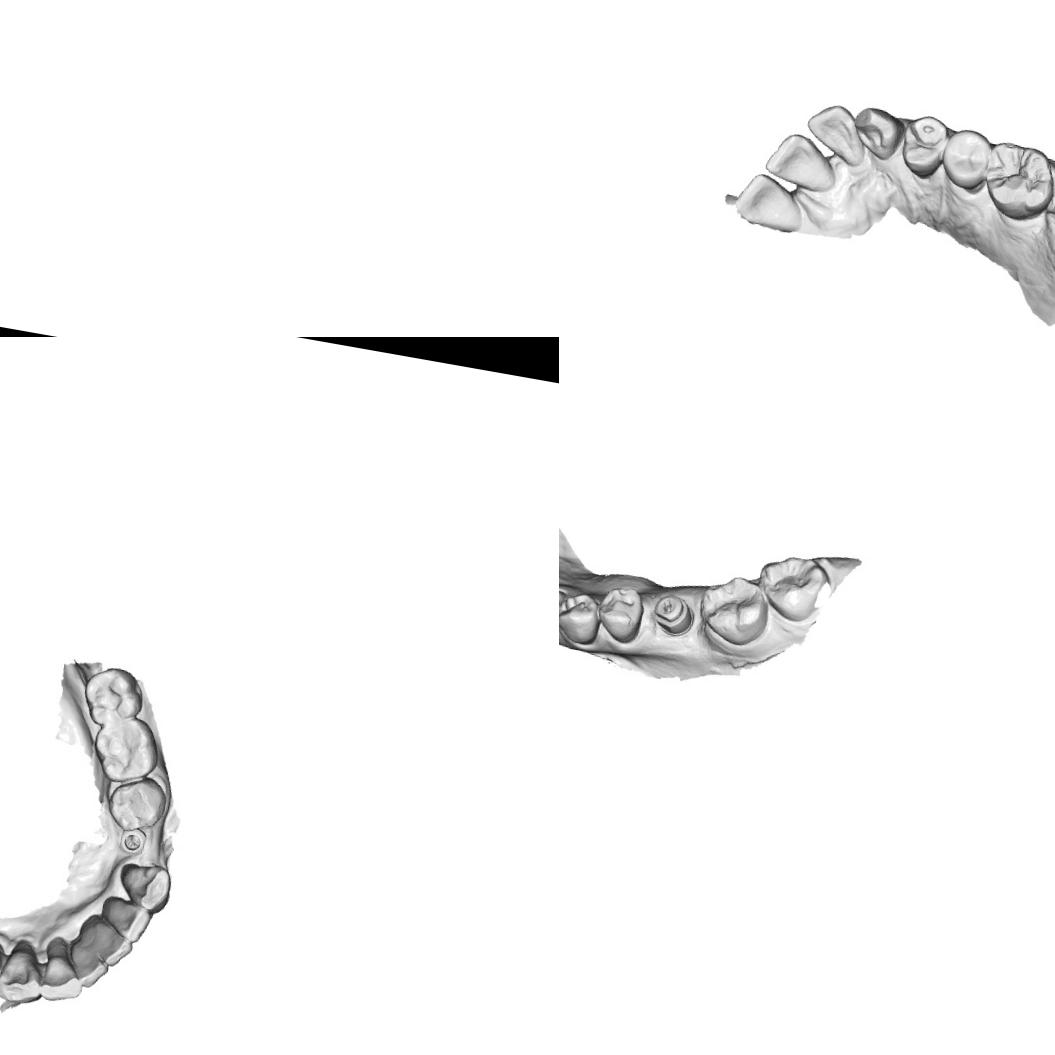canine: (845, 99, 906, 164), (0, 935, 50, 1009), (113, 858, 174, 916)
implant: (116, 824, 148, 858)
implant_minus: (648, 591, 698, 640)
incisor: (798, 96, 874, 172), (729, 166, 810, 237), (759, 127, 842, 195), (36, 934, 90, 1005), (75, 912, 137, 968), (96, 893, 153, 945), (62, 936, 112, 990)
molar: (974, 136, 1055, 226), (693, 569, 774, 650), (751, 550, 833, 626), (87, 709, 163, 788), (78, 662, 148, 732)
premolar: (893, 109, 957, 184), (102, 770, 170, 837), (936, 122, 996, 196), (592, 582, 648, 645), (559, 587, 604, 646)
